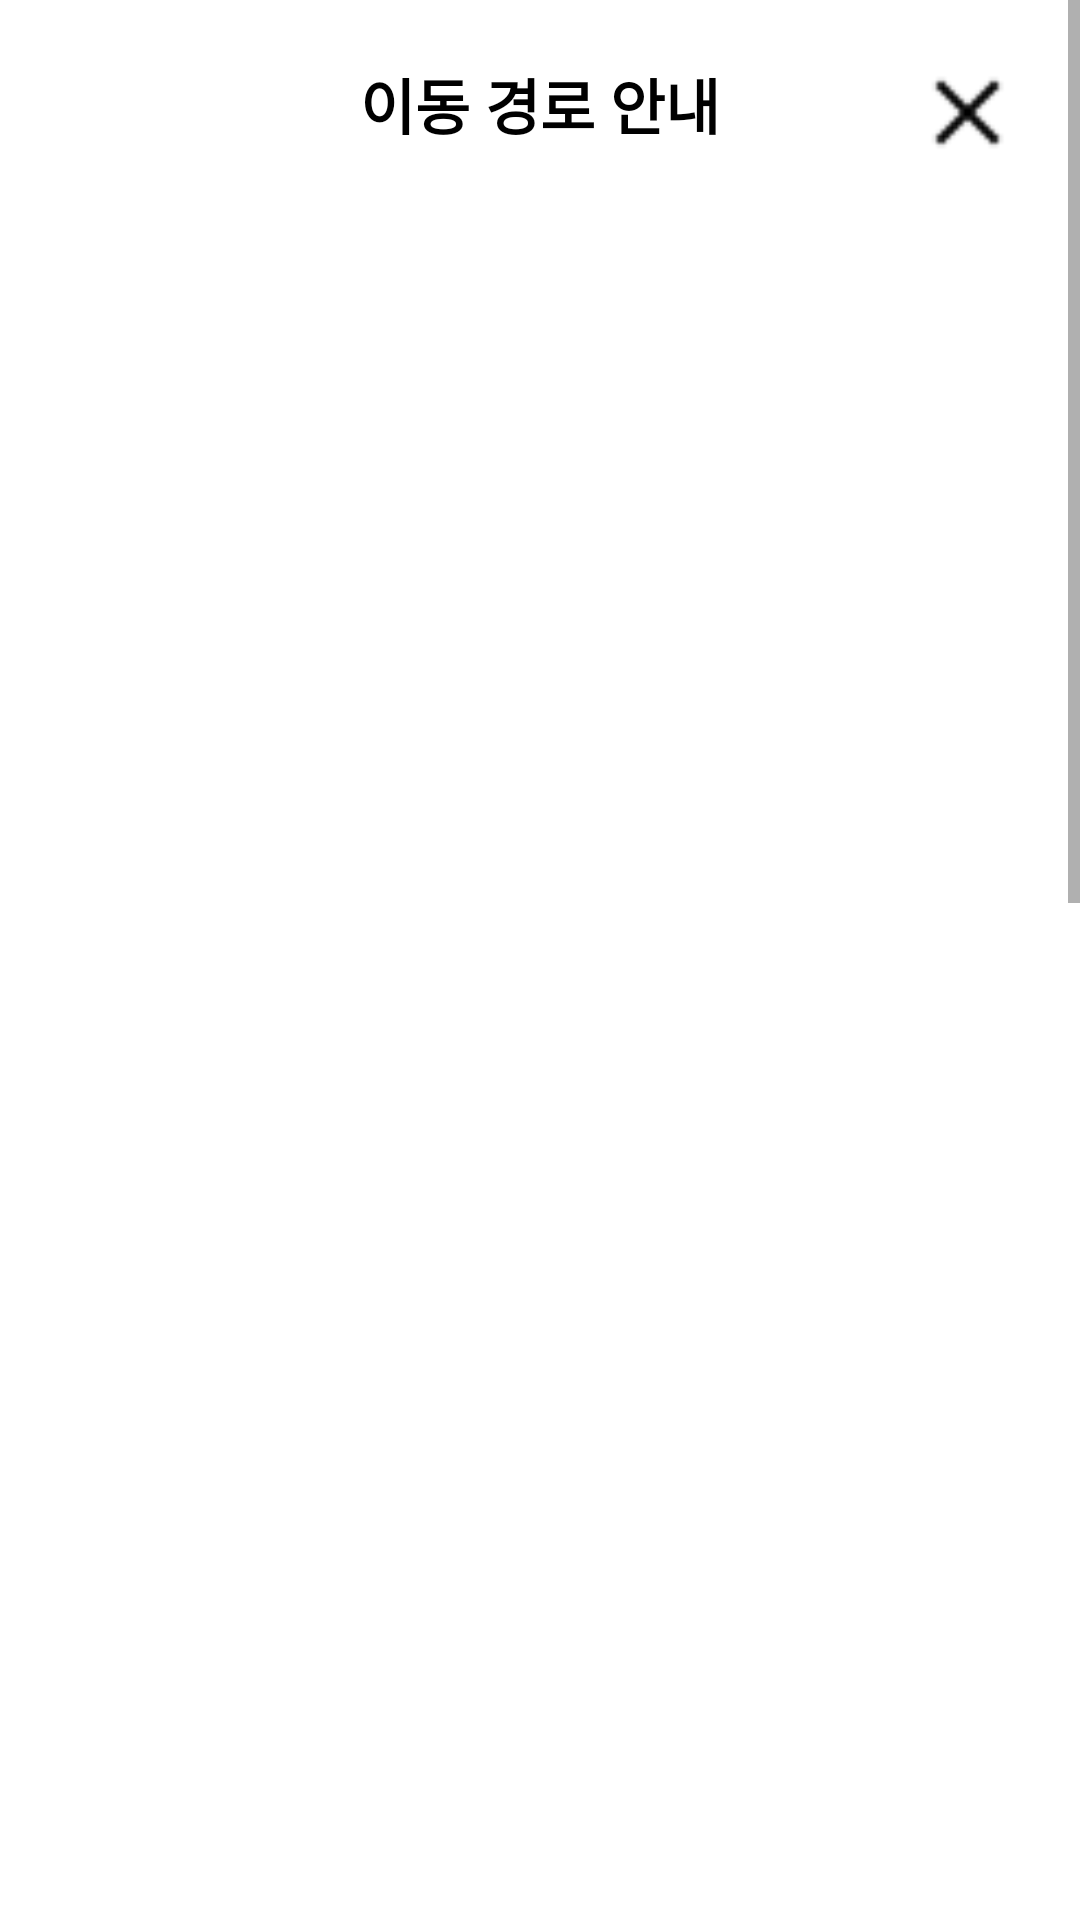

Named icons in this screenshot (1080*1920) and their centers, point (x, y):
exit: point (967, 112)
